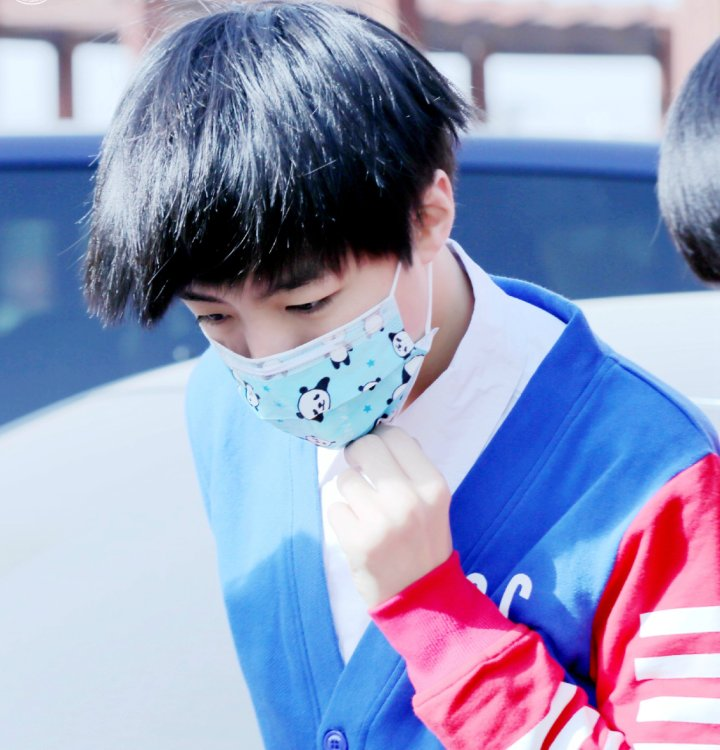face_mask: (166, 204, 398, 446)
